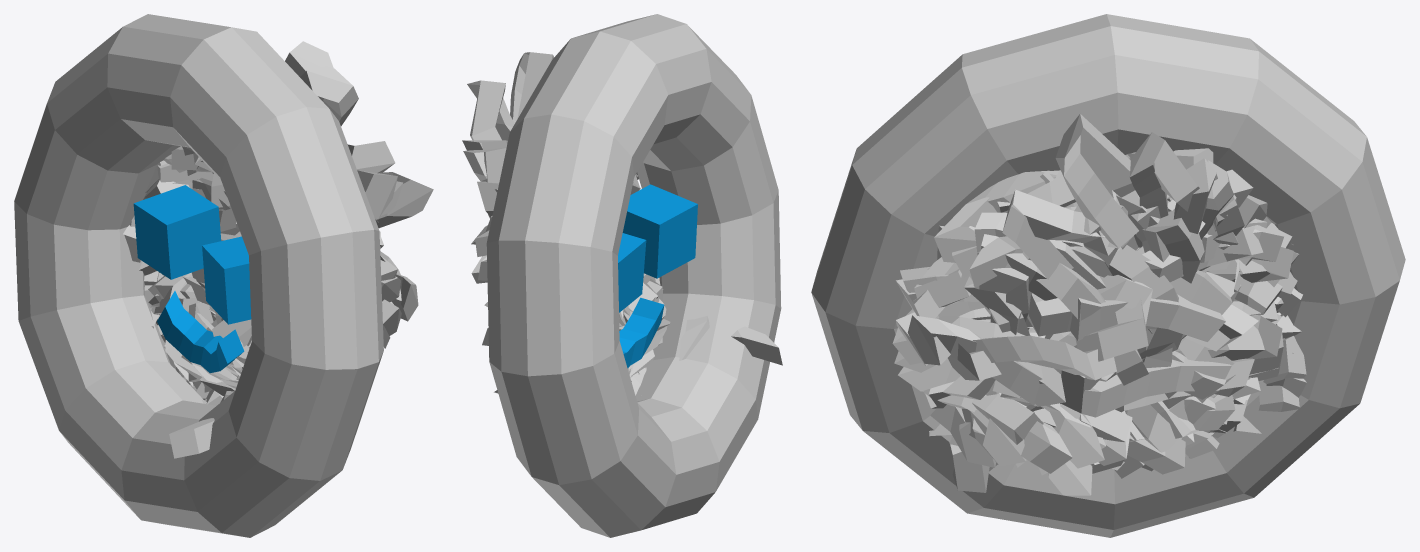
Rendered from Head_Luke.fbx.
The picture shows the model from 3 angles, left to right: view 1: azimuth 30°, elevation 25°; view 2: azimuth 150°, elevation 25°; view 3: azimuth 270°, elevation 25°; orthographic projection. The views are drawn at different scales.
Parts seen in each view (by area): view 1: mesh_927254147, group_232344953, mesh_1753000561, mesh_1764805451, group_971140690, group_1906205047, group_887397709, group_385054459, group_1027144388, group_1526645033, group_19953151, group_792450245 (+1 smaller); view 2: mesh_927254147, group_232344953, mesh_1764805451, group_971140690, mesh_1753000561, group_19953151, group_1542991135, group_385054459, group_1526645033, group_1027144388, group_887397709; view 3: mesh_927254147, group_232344953, group_1906205047, group_1526645033, group_1027144388, group_373200926, group_792450245, group_887397709, group_531158098, group_1542991135.
Part boxes in pixels (box(x1,y1,x2,y2)): mesh_927254147: box(14, 14, 383, 537); group_232344953: box(196, 41, 403, 380); mesh_1753000561: box(133, 185, 221, 279); mesh_1764805451: box(202, 236, 251, 324); group_971140690: box(157, 291, 244, 373); group_1906205047: box(206, 172, 433, 367); group_887397709: box(130, 146, 222, 405); group_385054459: box(144, 272, 251, 392); group_1027144388: box(165, 219, 390, 397); group_1526645033: box(182, 172, 247, 382); group_19953151: box(169, 418, 214, 458); group_792450245: box(380, 256, 401, 335); mesh_927254147: box(486, 14, 781, 537); group_232344953: box(462, 52, 627, 328); mesh_1764805451: box(622, 184, 697, 278); group_971140690: box(619, 297, 664, 368); mesh_1753000561: box(618, 233, 646, 312); group_19953151: box(731, 326, 782, 365); group_1542991135: box(679, 316, 709, 360); group_385054459: box(619, 273, 664, 325); group_1526645033: box(475, 216, 492, 345); group_1027144388: box(471, 175, 670, 381); group_887397709: box(628, 349, 654, 395); mesh_927254147: box(811, 14, 1405, 537); group_232344953: box(922, 114, 1258, 495); group_1906205047: box(907, 236, 1194, 492); group_1526645033: box(1000, 169, 1293, 471); group_1027144388: box(892, 148, 1213, 475); group_373200926: box(1027, 293, 1225, 341); group_792450245: box(896, 173, 1077, 366); group_887397709: box(1026, 195, 1302, 458); group_531158098: box(1233, 315, 1306, 433); group_1542991135: box(1029, 177, 1172, 368).
Bounding box in the file's own units: 58.58 × 103 × 103.
